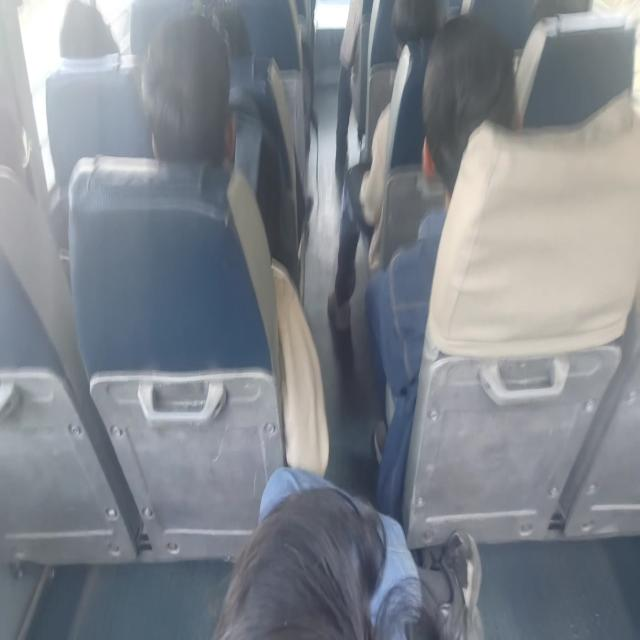person: (138, 9, 330, 477), (364, 12, 520, 519), (214, 466, 484, 638), (327, 0, 442, 332), (140, 10, 234, 166), (334, 0, 363, 204), (57, 0, 120, 59)
